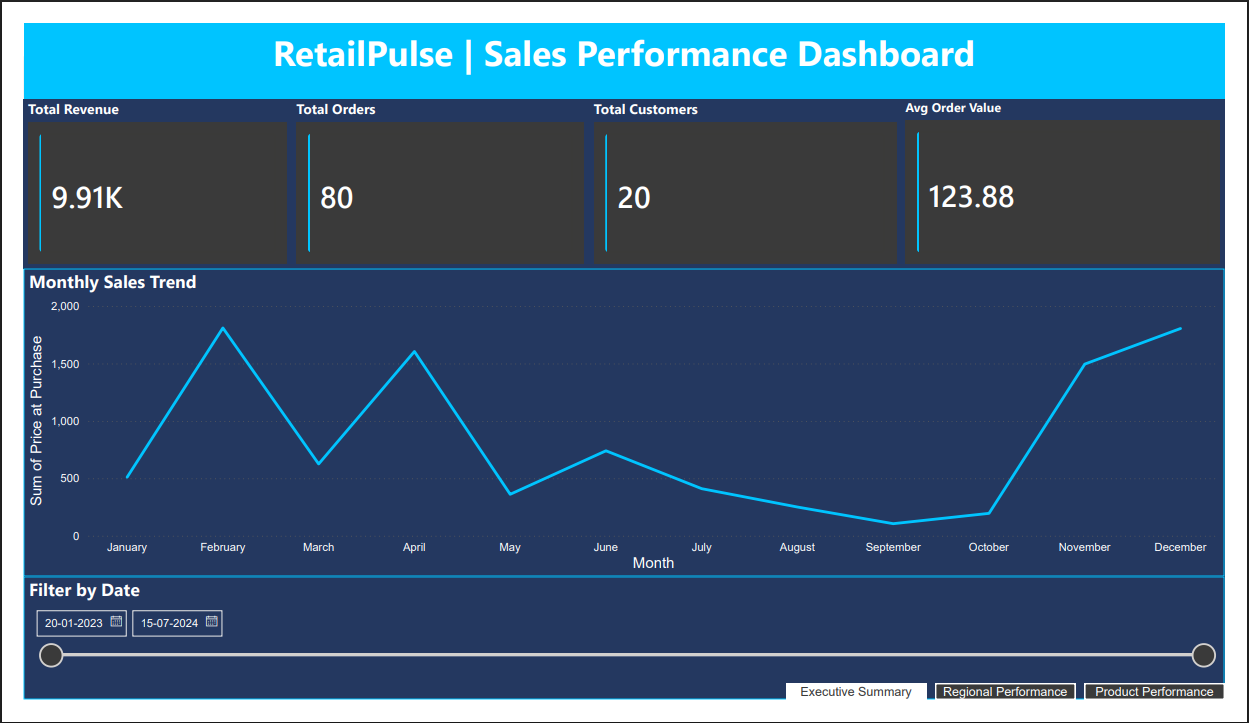

The page's visual inventory and layout, read from the dashboard file:
{"tool":"powerbi","page":{"name":"Executive Summary","canvas":[1280,720],"ordinal":0},"visuals":[{"type":"cardVisual","title":"Total Revenue","fields":{"Data":["Sum(public order_items.price_at_purchase)"]},"box":[0,80,286.2,181.2],"z":0},{"type":"cardVisual","title":"Total Orders","fields":{"Data":["CountNonNull(public order_items.order_id)"]},"box":[286.2,80,316.2,181.2],"z":1000},{"type":"cardVisual","title":"Total Customers","fields":{"Data":["CountNonNull(public customers.customer_id)"]},"box":[602.5,80,332.5,181.2],"z":2000},{"type":"cardVisual","title":"Avg Order Value","fields":{"Data":["Avg(public order_items.price_at_purchase)"]},"box":[935,80,345,181.2],"z":3000},{"type":"lineChart","title":"Monthly Sales Trend","fields":{"Y":["Sum(public order_items.price_at_purchase)"],"Category":["public orders.order_date.Variation.Date Hierarchy.Month"]},"box":[0,261.2,1280,327.5],"z":4000},{"type":"slicer","title":"Filter by Date","fields":{"Values":["public orders.order_date"]},"box":[0,588.8,1280,131.2],"z":4001},{"type":"shape","box":[0,0,1280,80],"z":4002},{"type":"textbox","box":[0,0,1280,80],"z":4003},{"type":"pageNavigator","box":[812.5,702.5,467.5,17.5],"z":4004}]}

Visuals, with their boxes in screenshot pixels (x1, y1, x2, y2), scaled from the page's 1280x720 canvas onto the 1249x723 screenshot:
"Total Revenue" cardVisual: x1=0, y1=80, x2=279, y2=262
"Total Orders" cardVisual: x1=279, y1=80, x2=588, y2=262
"Total Customers" cardVisual: x1=588, y1=80, x2=912, y2=262
"Avg Order Value" cardVisual: x1=912, y1=80, x2=1248, y2=262
"Monthly Sales Trend" lineChart: x1=0, y1=262, x2=1248, y2=591
"Filter by Date" slicer: x1=0, y1=591, x2=1248, y2=722
shape: x1=0, y1=0, x2=1248, y2=80
textbox: x1=0, y1=0, x2=1248, y2=80
pageNavigator: x1=793, y1=705, x2=1248, y2=722
